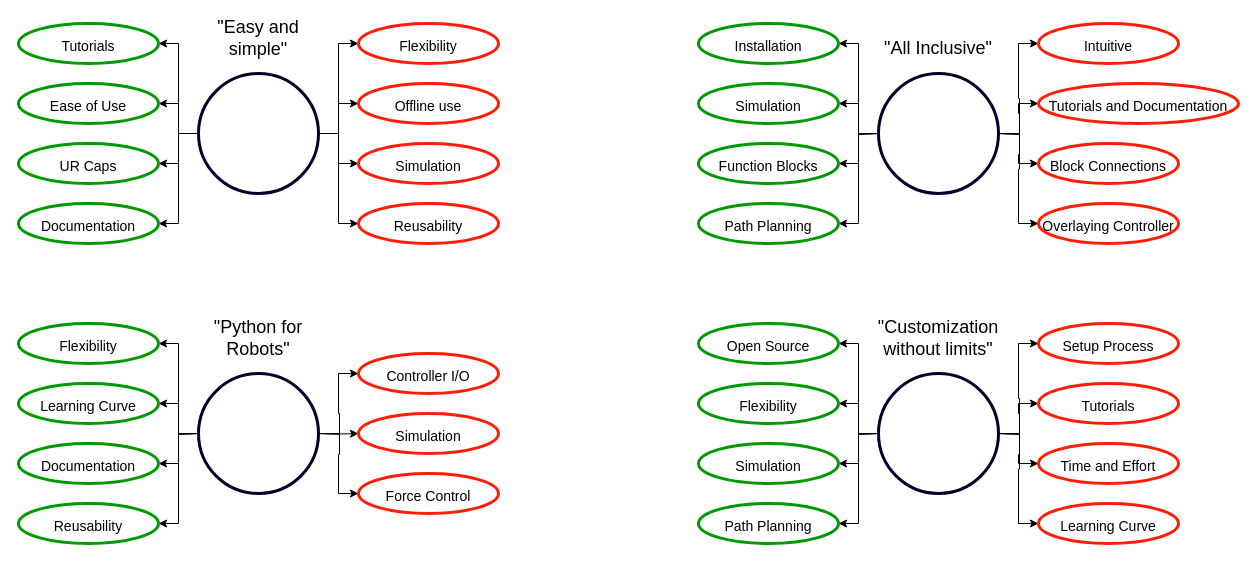
This 1257x562 diagram has some shape labels left out. Each missing label, with the centre of its shape:
Artiminds: point (938, 133)
MoveIt: point (938, 433)
Polyscope: point (258, 133)
RTDE: point (258, 433)
